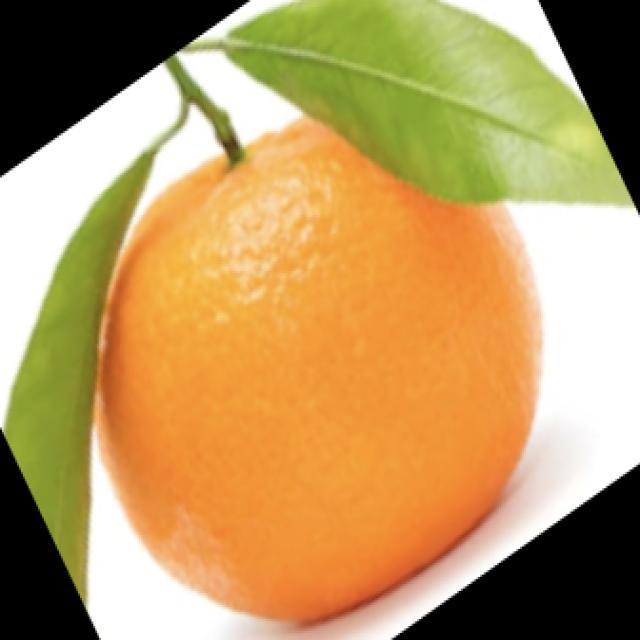Orange: (94, 115, 543, 626)
